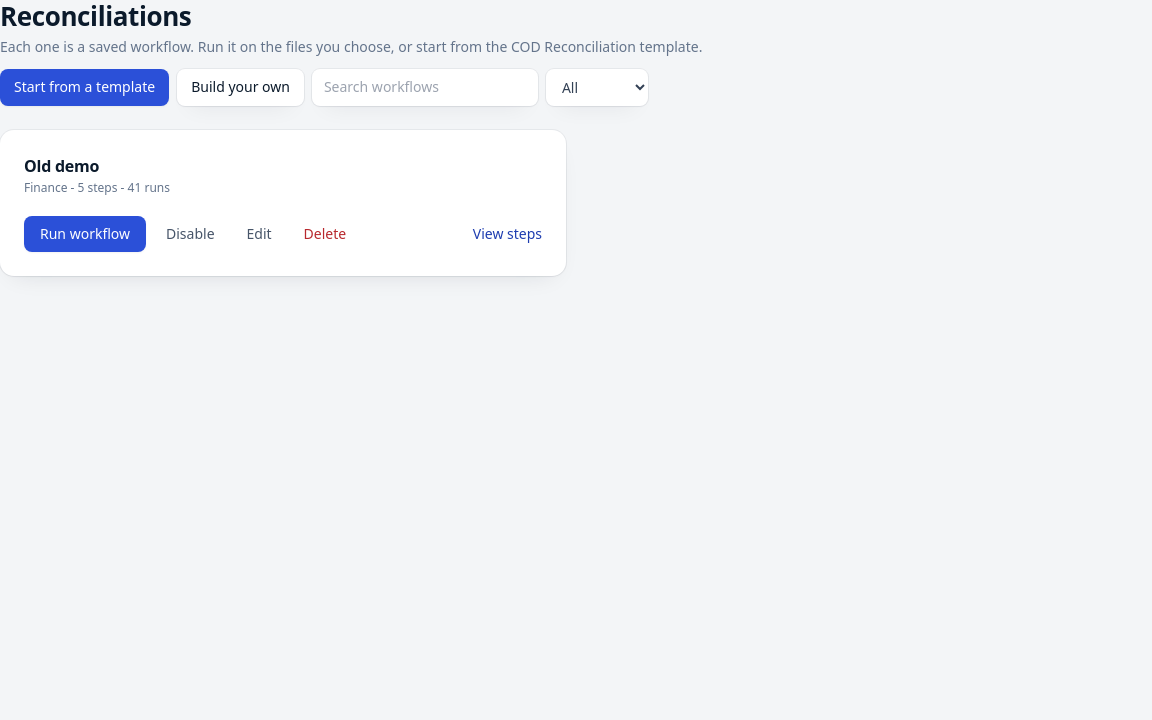
Test: deleting a workflow that has runs › Keep it closes the box without deleting anything
The width and height of the screenshot is (1152, 720).
Step 1. Click the button "Delete" → (325, 234), box [292, 216, 358, 252]
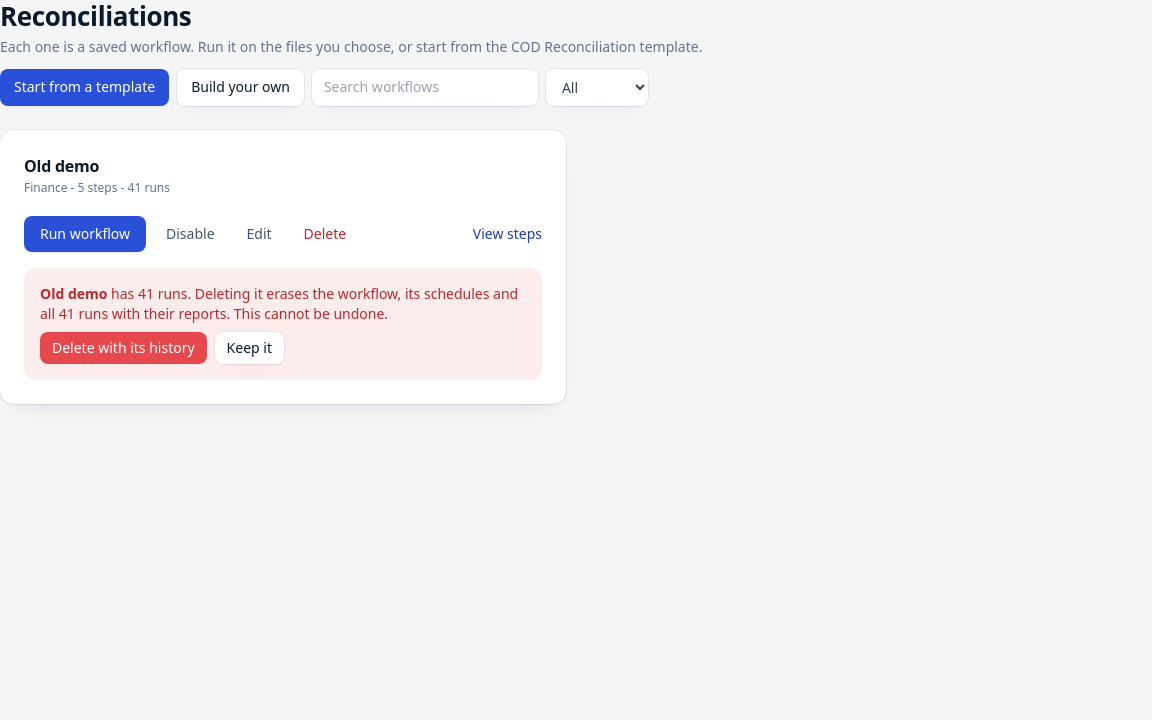
Step 2. Click the button "Keep it" → (249, 348), box [215, 332, 284, 364]
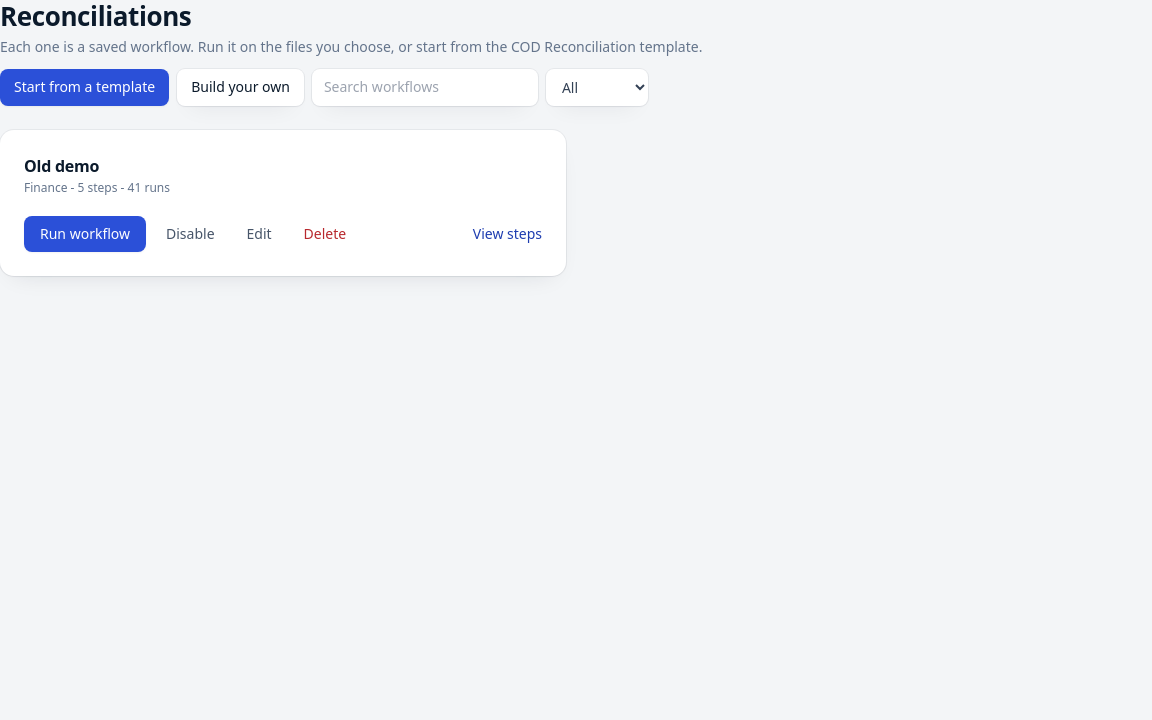
Result: the dialog is gone
